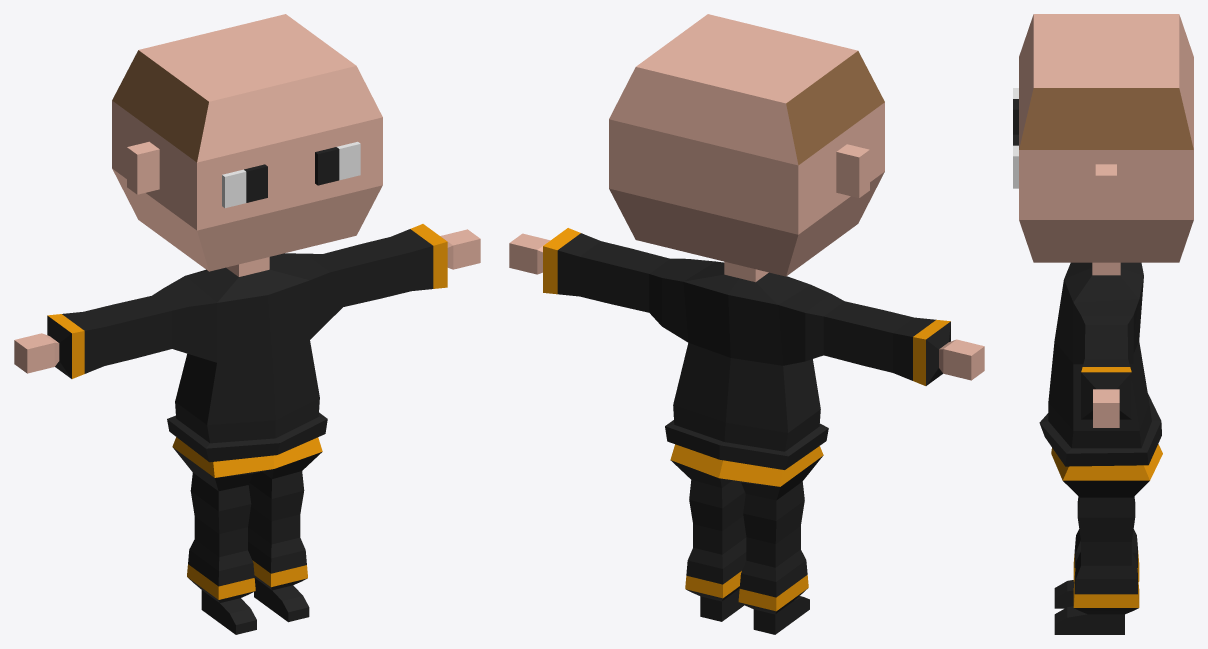
Rendered from Firefighter.gltf.
The picture shows the model from 3 angles, left to right: view 1: azimuth 30°, elevation 25°; view 2: azimuth 150°, elevation 25°; view 3: azimuth 270°, elevation 25°; orthographic projection. The views are drawn at different scales.
Visible parts, largest first — view 1: FireFighter; view 2: FireFighter; view 3: FireFighter.
Part boxes in pixels (x1=…): FireFighter: x1=14, y1=14, x2=480, y2=634; FireFighter: x1=509, y1=14, x2=984, y2=634; FireFighter: x1=1013, y1=14, x2=1193, y2=634.
Size of the model in its own units: 1.3 by 1.51 by 0.437.
Materials: 1 (1 with a texture image).
